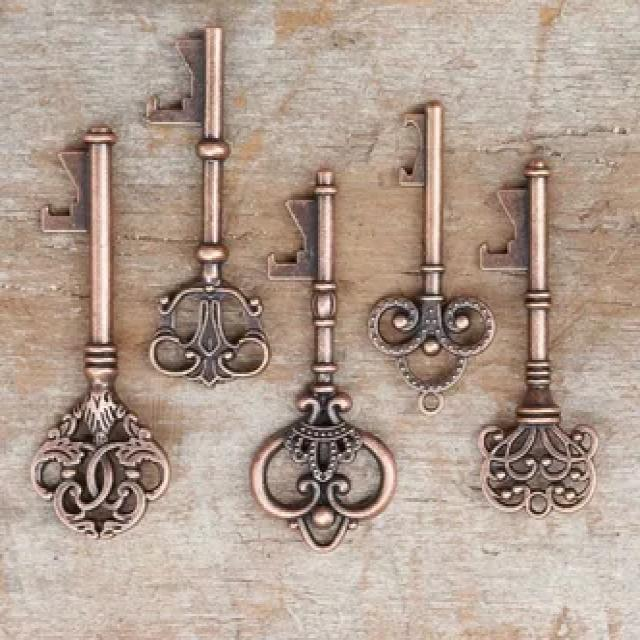key: (16, 124, 156, 551), (362, 76, 500, 416)
